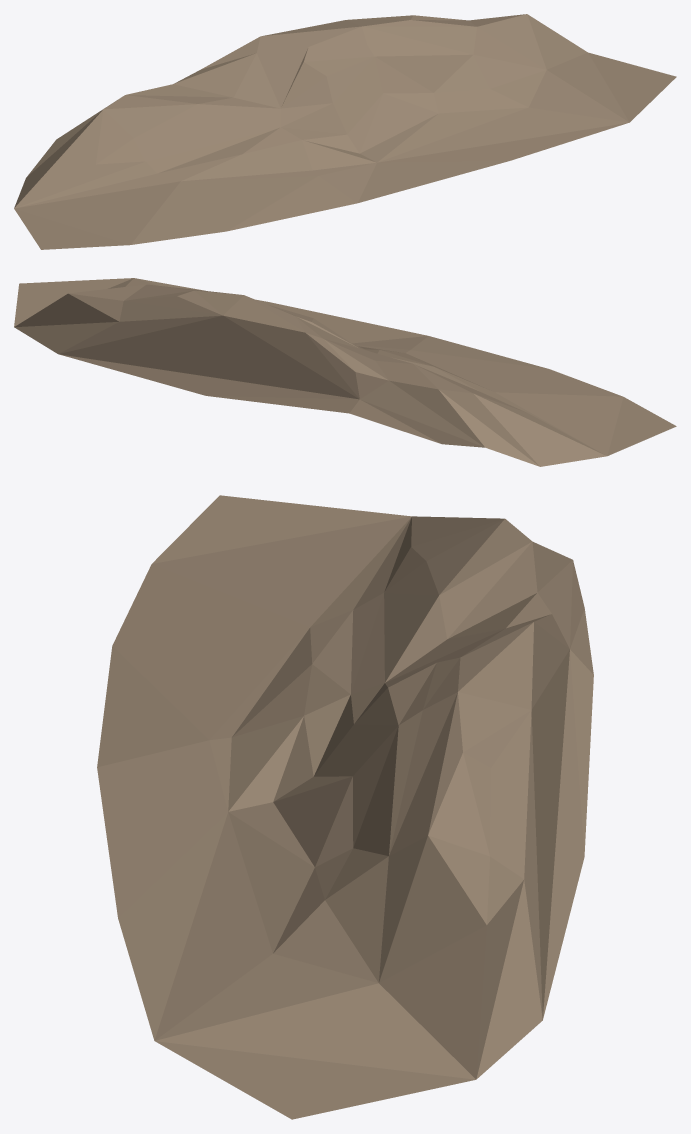
Rendered from SM_Env_GroundMound_Edge_01.FBX.
3 renders of one model, top to bottom at view 1: azimuth 30°, elevation 25°; view 2: azimuth 150°, elevation 25°; view 3: azimuth 270°, elevation 25°, orthographic. The views are drawn at different scales.
Parts seen in each view (by area): view 1: SM_Env_GroundMound_Edge_01; view 2: SM_Env_GroundMound_Edge_01; view 3: SM_Env_GroundMound_Edge_01.
Boxes of the visible parts, bbox=[...] form: SM_Env_GroundMound_Edge_01: bbox=[14, 14, 676, 249]; SM_Env_GroundMound_Edge_01: bbox=[14, 278, 676, 466]; SM_Env_GroundMound_Edge_01: bbox=[97, 495, 593, 1119].
Size of what is drawn, in the model's own units: 1897 by 638 by 238.
